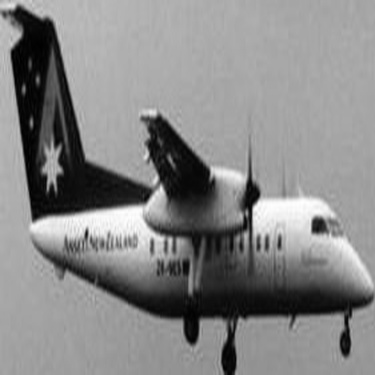airplane: (7, 5, 373, 371)
